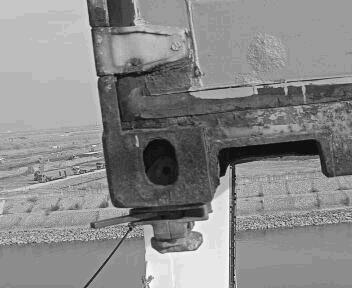twist_lock_1: (114, 199, 222, 267)
